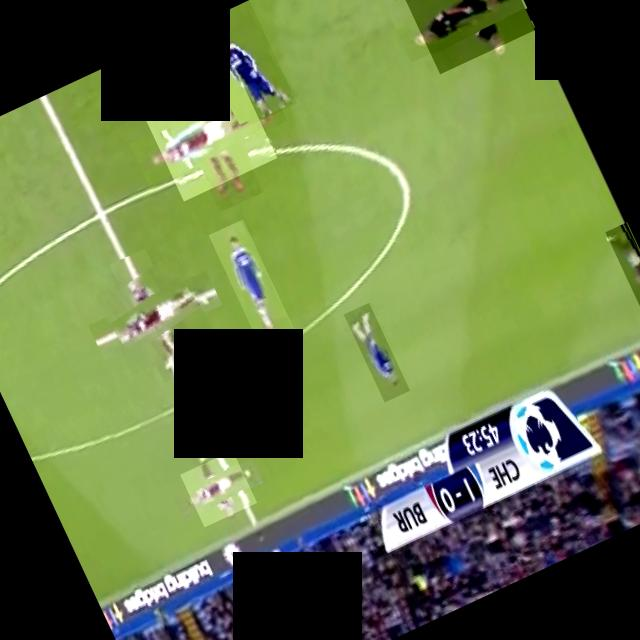referee: (396, 0, 535, 74)
soccer-player: (140, 65, 278, 202), (94, 256, 216, 376), (190, 0, 297, 131), (208, 219, 296, 349), (344, 302, 410, 402), (180, 450, 258, 527), (605, 222, 640, 308)
